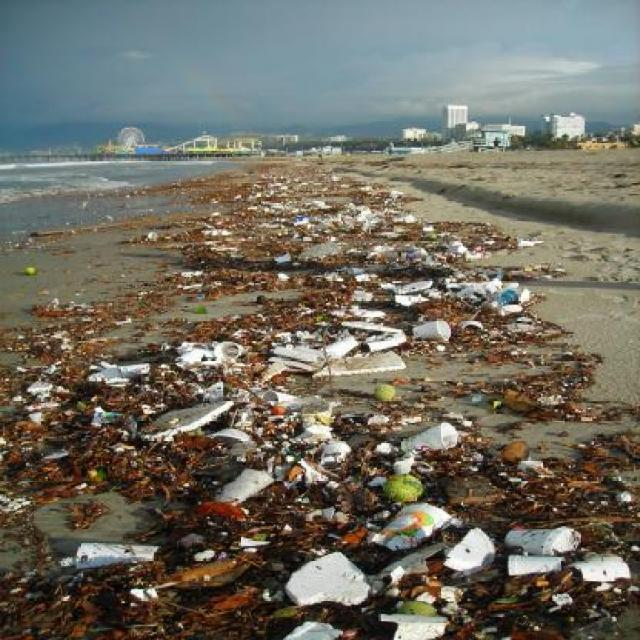garbage: (176, 429, 612, 628), (374, 254, 532, 325)
